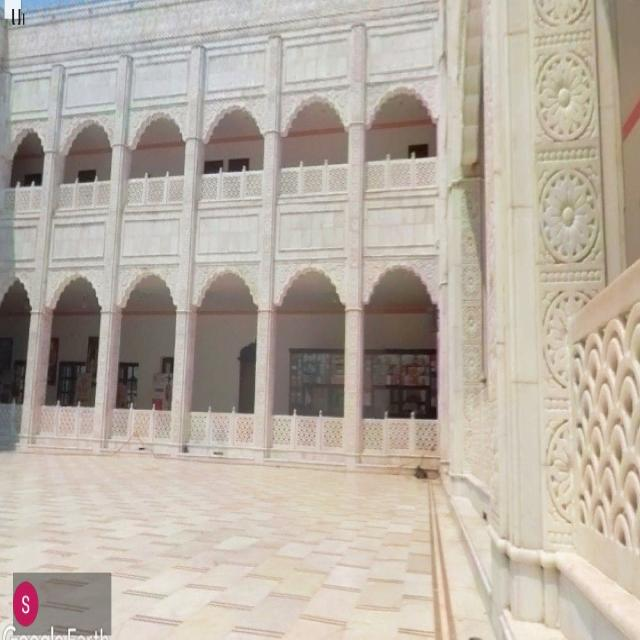objects-ruins-artifacts: (53, 50, 362, 342), (442, 212, 614, 568)
